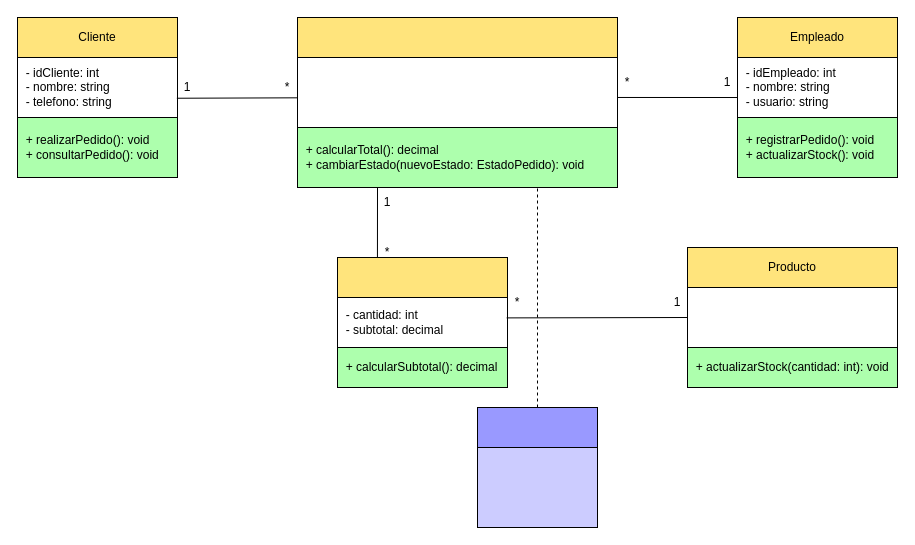
This 915x545 diagram has some shape labels left out. Each missing label, with the box of its shape:
- idPedido: int - fecha: Date - total: decimal - estado: EstadoPedido: (296, 56, 618, 128)
- idProducto: int - nombre: string - precio: decimal - stock: int: (686, 286, 898, 348)
- Pendiente - En preparación - Listo para entregar - Entregado - Cancelado: (476, 446, 598, 528)
<enumeration> EstadoPedido: (476, 406, 598, 448)
DetallePedido: (336, 256, 508, 298)
Pedido: (296, 16, 618, 58)
